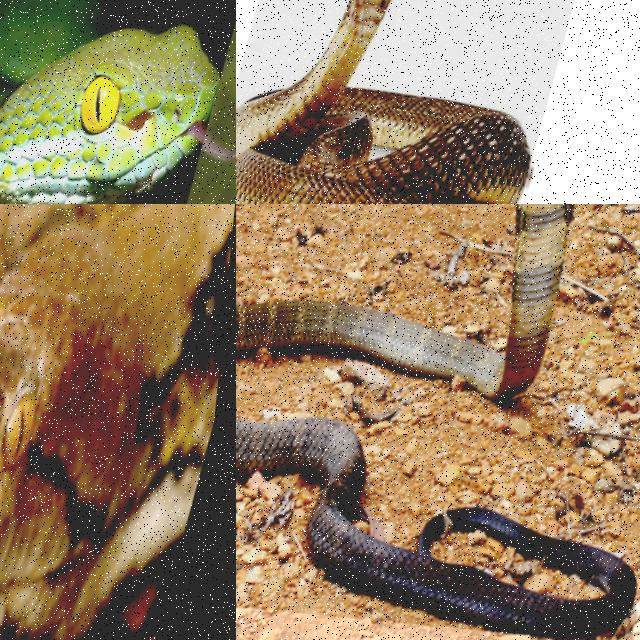Malayopython reticulatus: (0, 204, 234, 639)
Naja kaouthia: (236, 0, 534, 203)
Ophiophagus hannah: (236, 418, 636, 639)
Trimeresurus macrops: (0, 0, 217, 203)
snake: (0, 204, 234, 639), (236, 418, 636, 639), (236, 0, 534, 203), (0, 0, 217, 203)
